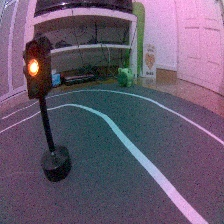amber: (20, 36, 73, 184)
